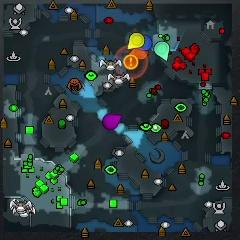Other: (122, 55, 138, 69)
p1: (139, 34, 153, 51)
p2: (154, 41, 169, 61)
p3: (103, 113, 122, 130)
p4: (128, 32, 144, 50)
p5: (127, 48, 149, 60)
